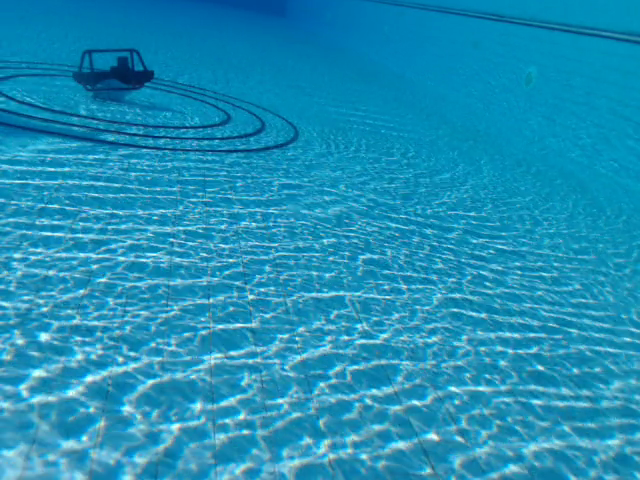submarine: (71, 48, 156, 102)
